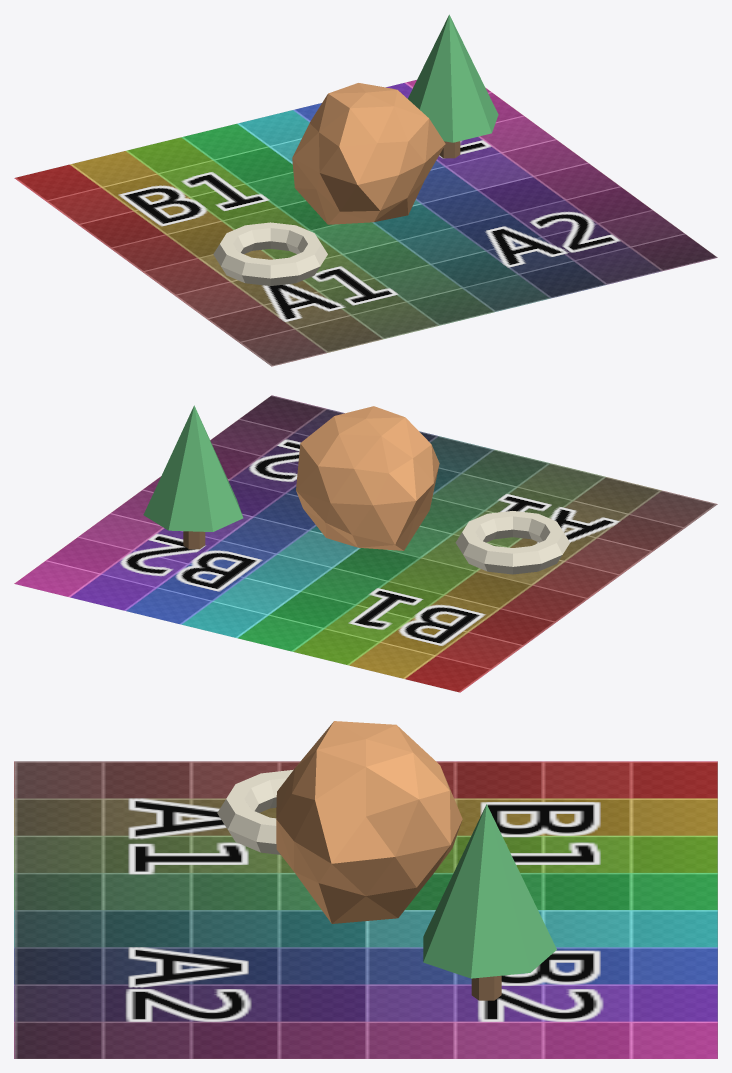
The picture shows the model from 3 angles, top to bottom: view 1: azimuth 30°, elevation 25°; view 2: azimuth 150°, elevation 25°; view 3: azimuth 270°, elevation 25°; orthographic projection. The views are drawn at different scales.
Parts seen in each view (by area): view 1: Ground, Rock, Leaves, Ring; view 2: Ground, Rock, Leaves, Ring; view 3: Ground, Rock, Leaves, Ring, Trunk.
Part boxes in pixels (box(x1,y1,x2,y2)): Ground: box(14, 80, 717, 366); Rock: box(292, 83, 445, 224); Leaves: box(408, 14, 498, 142); Ring: box(213, 222, 327, 285); Ground: box(14, 395, 717, 692); Rock: box(296, 406, 439, 550); Leaves: box(143, 405, 243, 531); Ring: box(455, 511, 570, 574); Ground: box(14, 761, 717, 1058); Rock: box(276, 721, 462, 923); Leaves: box(423, 804, 556, 978); Ring: box(217, 769, 293, 854); Trunk: box(471, 975, 501, 1000).
Bounding box in the file's own units: 7 × 2.1 × 7.
Materials: 5 (1 with a texture image).
